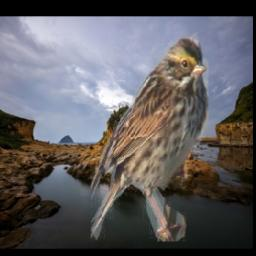Sparrow: (92, 38, 210, 242)
